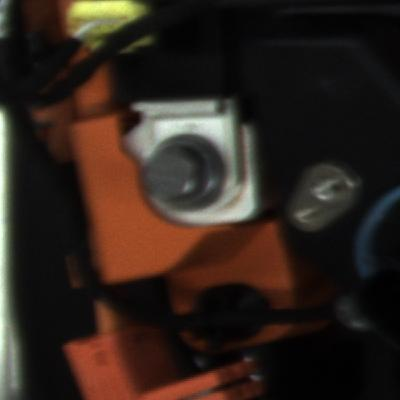nut_b: (129, 134, 233, 210)
